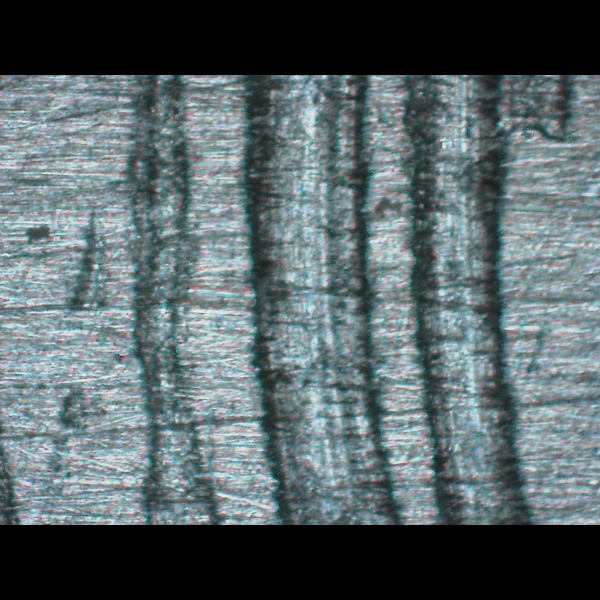d: (96, 74, 554, 523)
